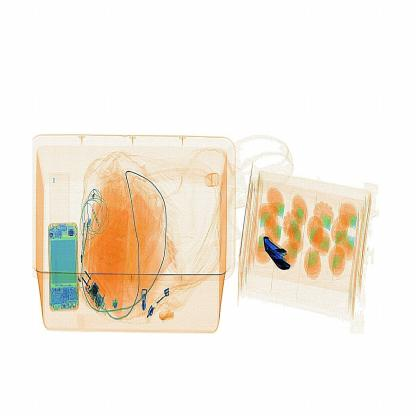pliers: (260, 234, 294, 284)
